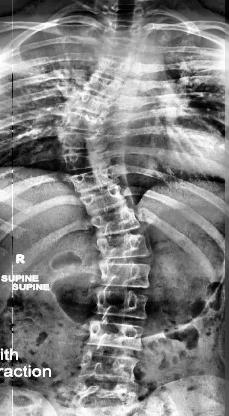Vertebrae: (78, 351, 142, 387), (85, 320, 146, 352), (92, 288, 150, 320), (90, 204, 142, 236), (98, 259, 152, 289), (80, 186, 130, 218), (96, 232, 150, 260), (69, 166, 119, 194), (60, 128, 109, 152), (63, 112, 113, 134), (93, 56, 131, 84), (63, 150, 109, 172), (84, 72, 122, 98), (74, 91, 112, 117), (102, 21, 142, 43), (100, 38, 138, 60)
